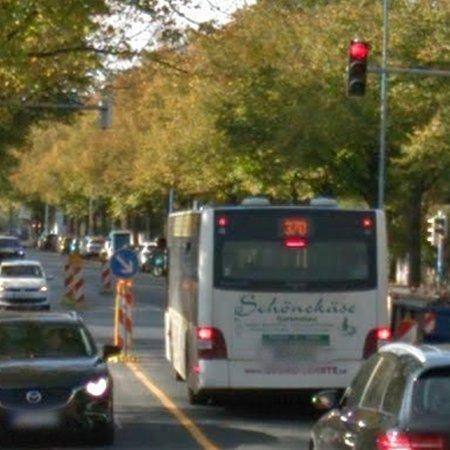buses: (166, 205, 389, 400)
